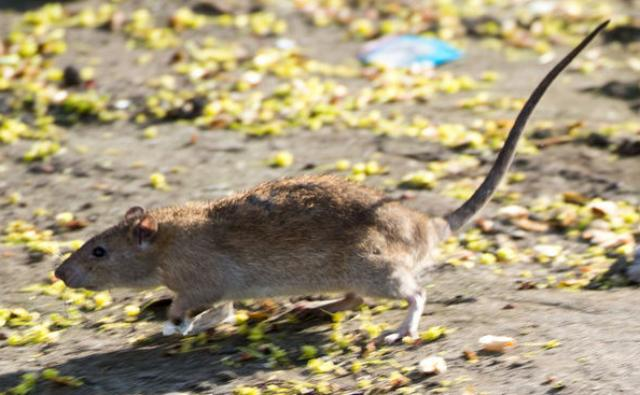rat: (38, 14, 624, 356)
